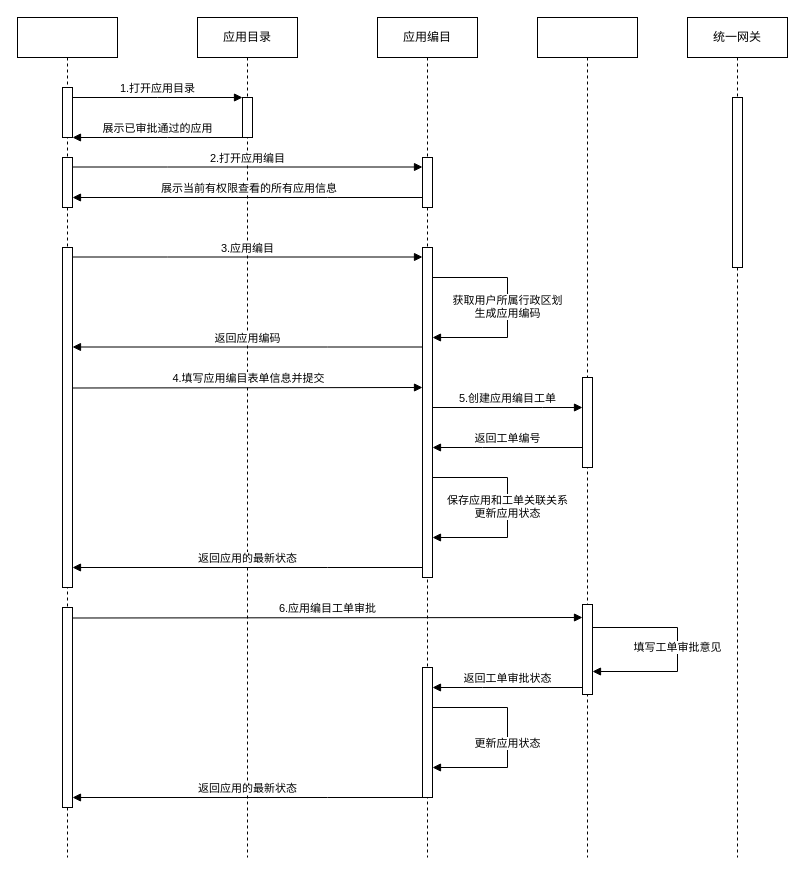
Some shapes in this 805 by 875 pixel diagram are drawn without their labels. Here are the shapes that lost their labels. From the top down, the box of each, then its label:
(16, 16, 118, 858): 用户
(536, 16, 638, 858): 统一工单
